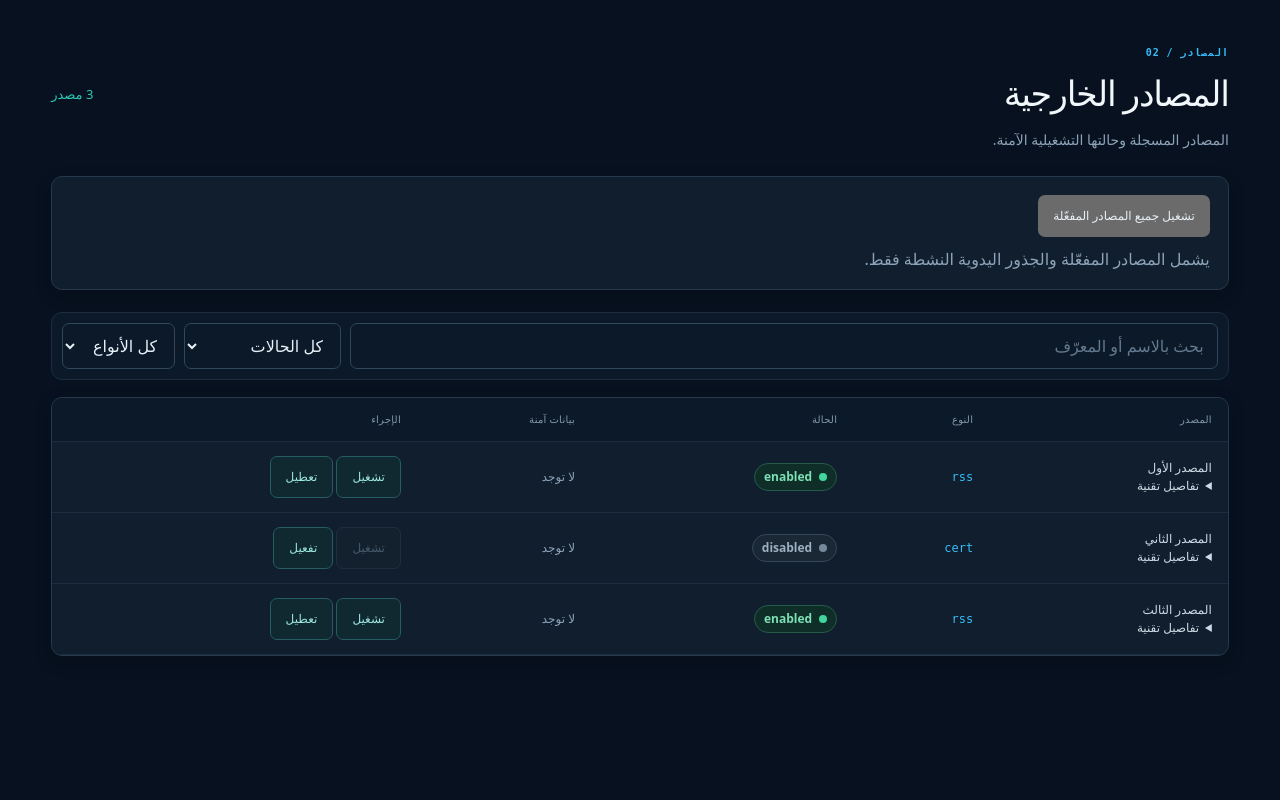
Test: single external source job › finishes a zero-result source without importing a historical export
Click the button "تشغيل" in the row of "المصدر الأول": (369,477) [336,456,401,498]
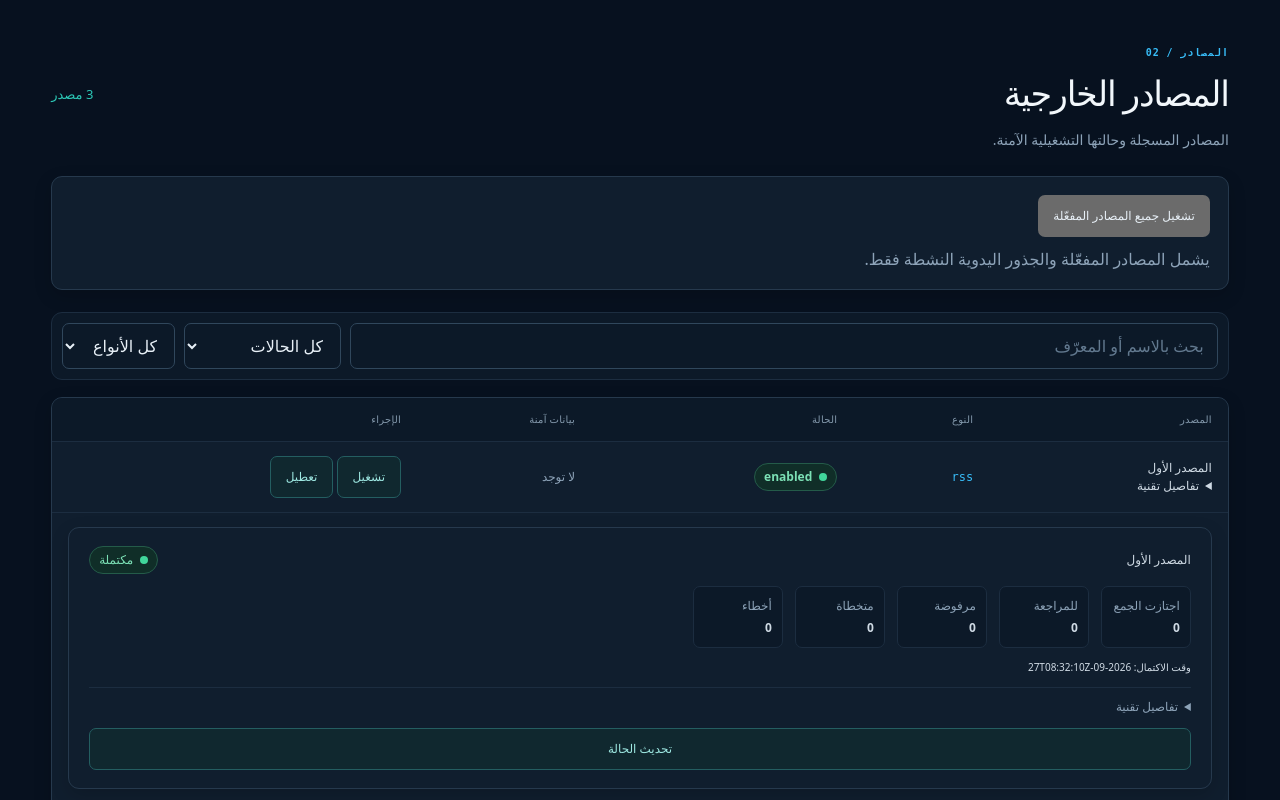
expect the element named "الحالة: مكتملة" is shown: met, box [89,546,158,574]
